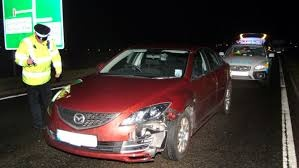Dent: (122, 110, 178, 160)
